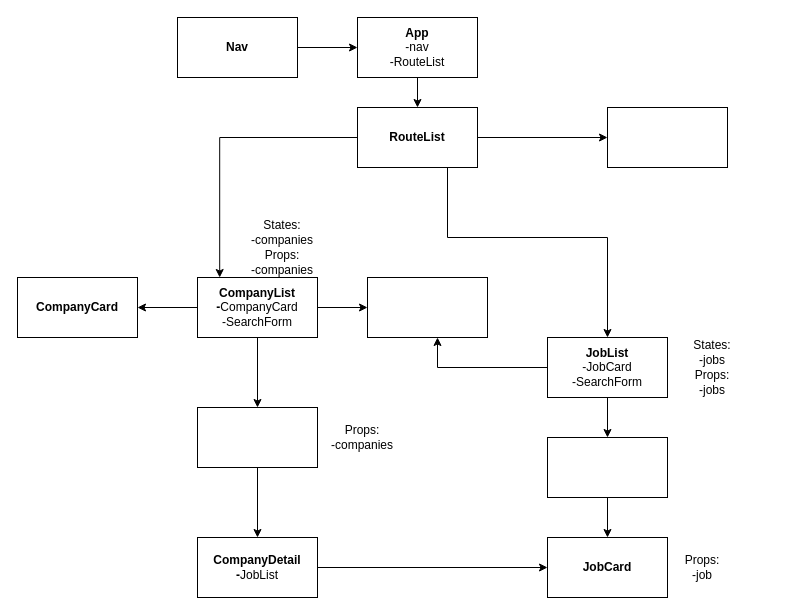
Image size: 790x615. Some labels were removed from this diagram. The centre of each missing label's shape, as x and y in pixels:
"CompanyCardList" belongs at point (257, 437).
"JobCardList" belongs at point (607, 467).
"LandingPage" belongs at point (667, 137).
"SearchForm" belongs at point (427, 307).
